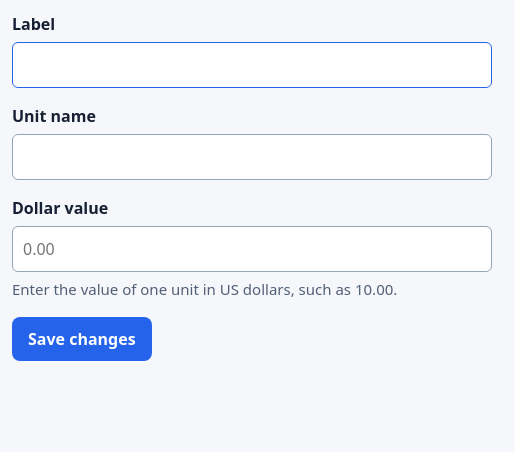
Test: OpportunityCostForm › uses safe global feedback instead of exposing an unexpected server message
This screenshot has width=515, height=452.
Type "Hours worked" into the field labelled "Label".
click(252, 65); type("Hours worked")  # box [12, 42, 492, 88]
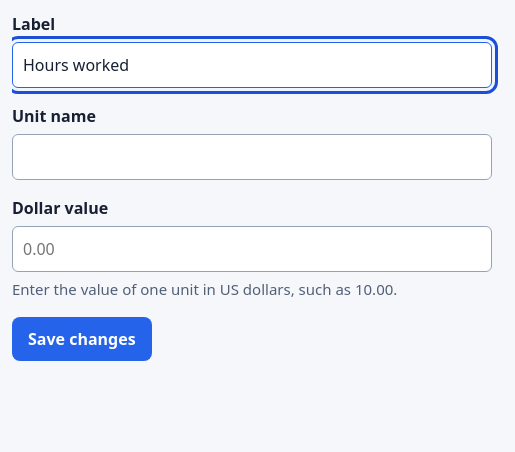
Type "hours" into the field labelled "Unit name".
click(252, 157); type("hours")  # box [12, 134, 492, 180]
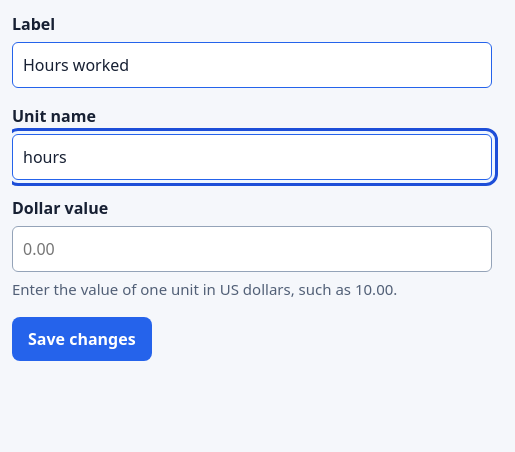
Type "10.00" into the field labelled "Dollar value".
click(252, 249); type("10.00")  # box [12, 226, 492, 272]
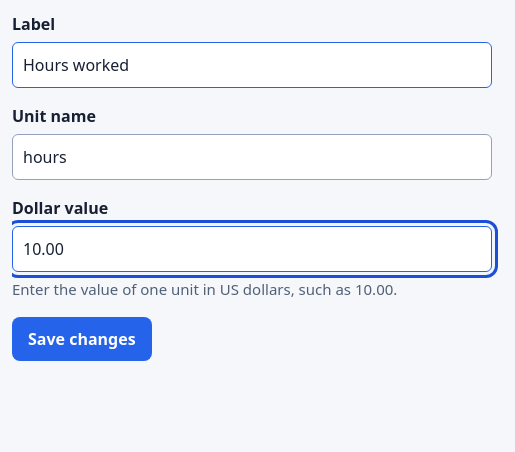
Click the button "Save changes".
click(82, 338)  # box [12, 316, 152, 360]
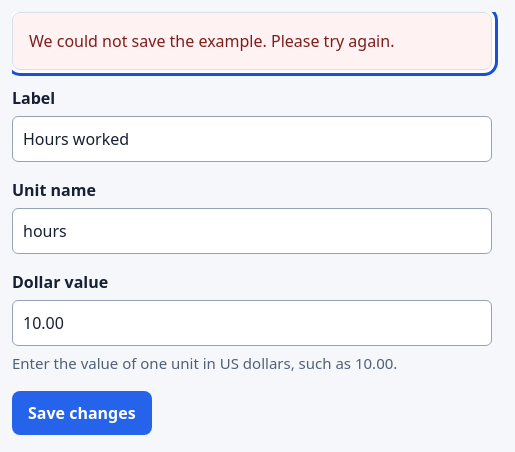
Expected: the message reads "We could not save the example. Please try again.", [29, 30, 394, 52]
